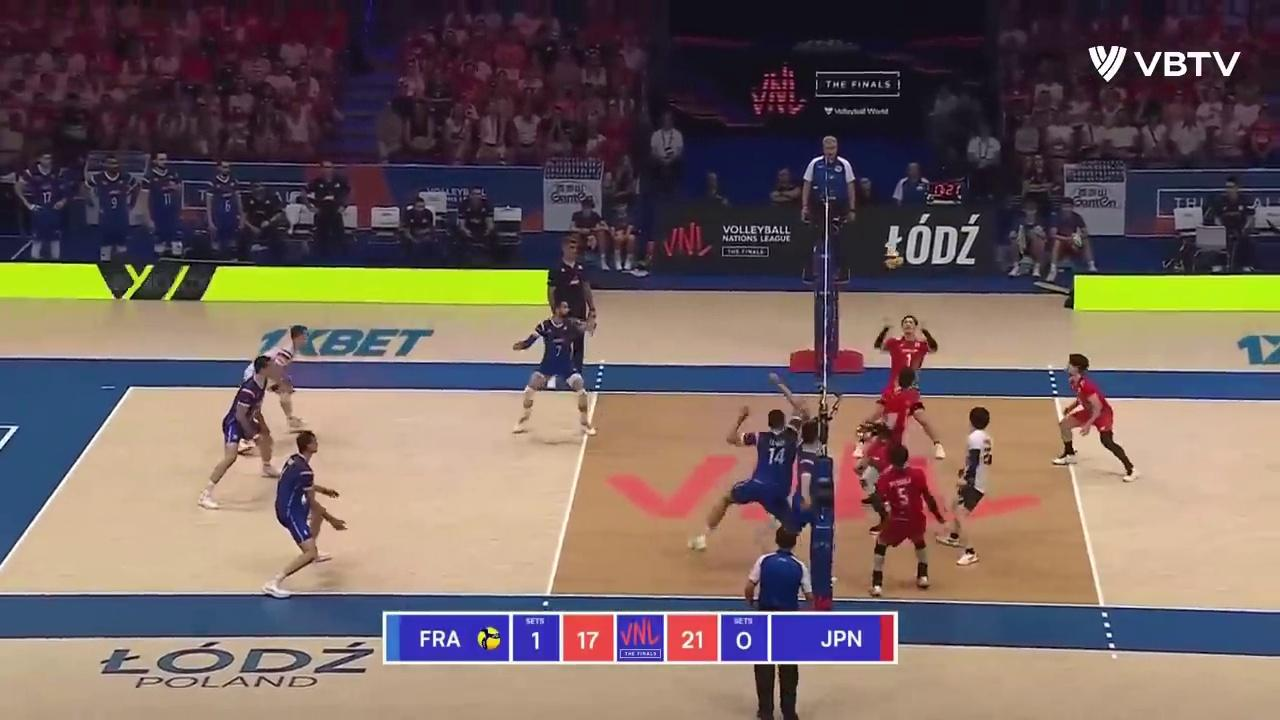ball: (882, 250, 904, 269)
